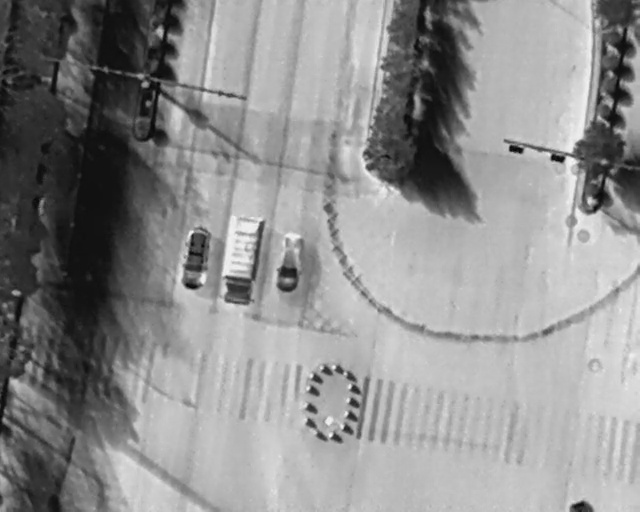Car: (176, 221, 214, 292), (273, 231, 307, 293)
OtherVehicle: (219, 213, 263, 308)
